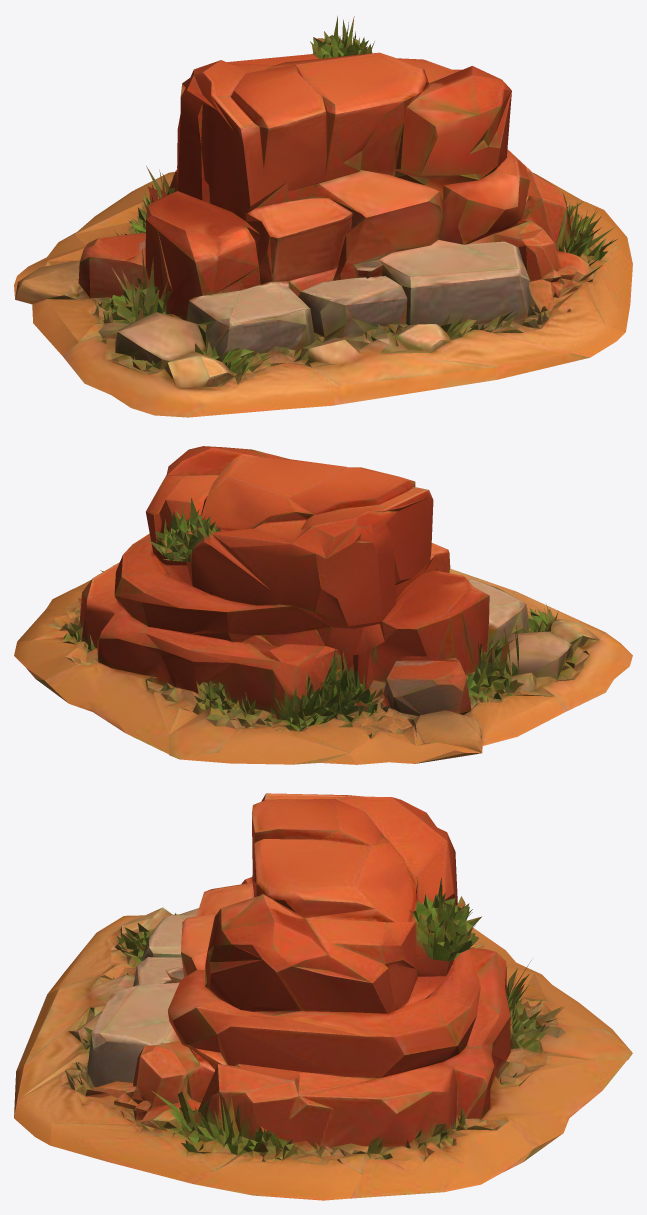
File: west_rock_formation_a.glb
The picture shows the model from 3 angles, top to bottom: view 1: azimuth 30°, elevation 25°; view 2: azimuth 150°, elevation 25°; view 3: azimuth 270°, elevation 25°; orthographic projection. The views are drawn at different scales.
Parts seen in each view (by area): view 1: mesh_node; view 2: mesh_node; view 3: mesh_node.
Boxes of the visible parts, x1,y1,x2,y2 form: mesh_node: [14, 16, 632, 417]; mesh_node: [14, 446, 632, 764]; mesh_node: [14, 793, 632, 1200].
Bounding box in the file's own units: 1.9 × 0.662 × 1.71.
1 material, 1 textured.
